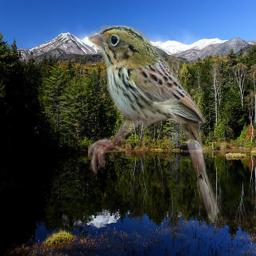Sparrow: (88, 25, 222, 223)
